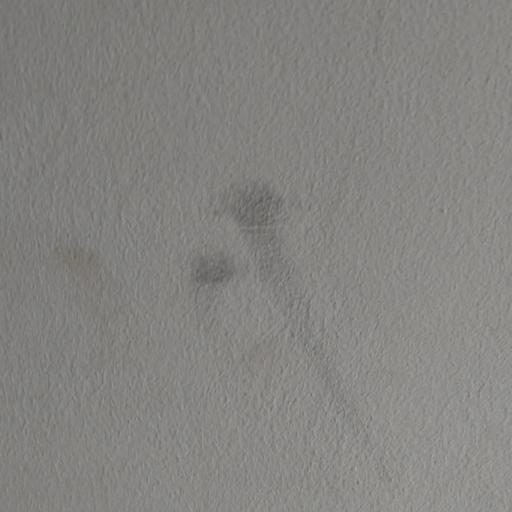stain: (140, 125, 473, 491)
